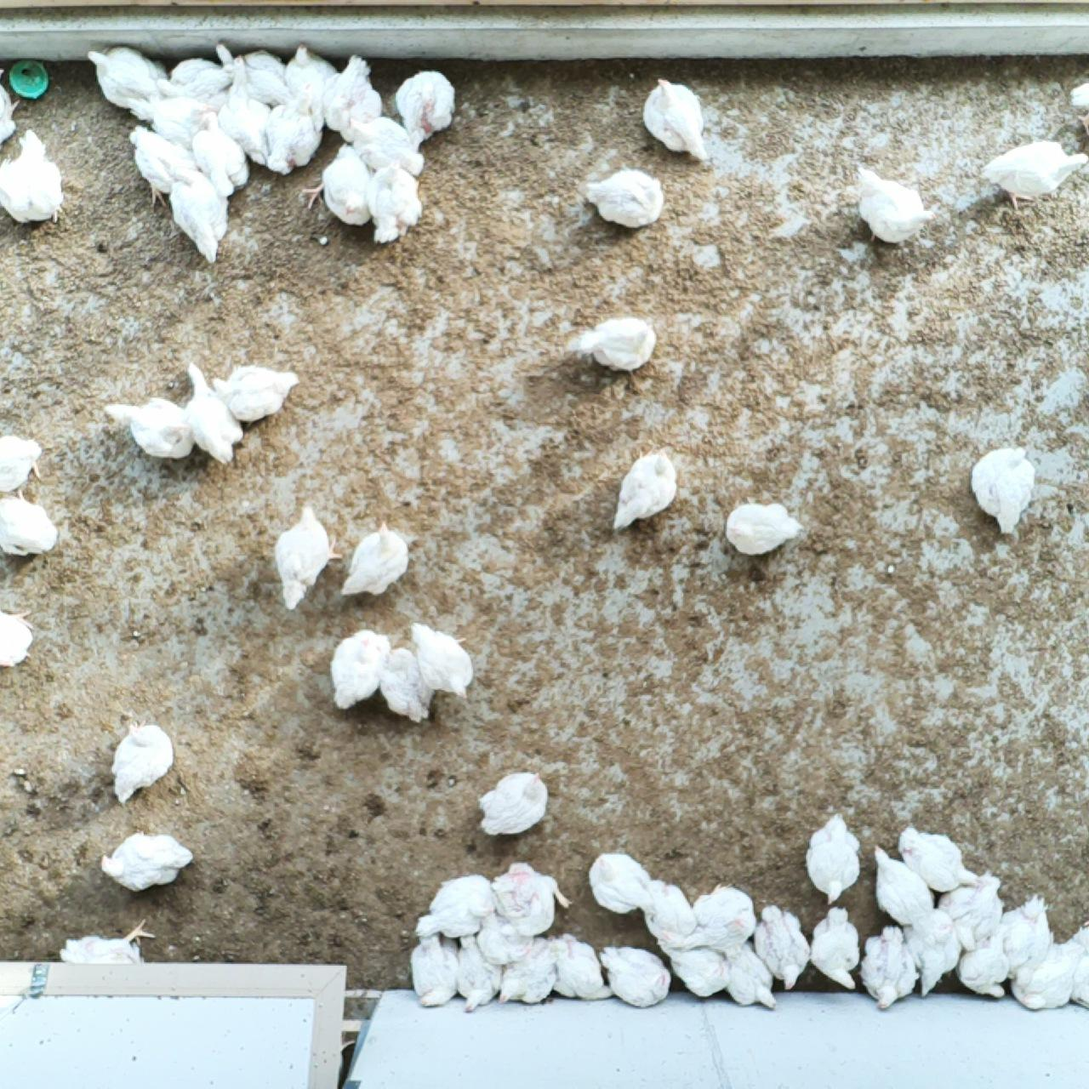chicken: (978, 137, 1089, 213), (850, 162, 944, 249), (275, 500, 342, 615), (639, 71, 717, 169), (577, 155, 674, 233), (82, 40, 173, 122), (299, 139, 381, 227), (181, 358, 245, 469), (0, 127, 69, 229), (488, 858, 572, 938), (894, 822, 985, 895), (99, 828, 198, 895), (936, 865, 1011, 952), (799, 810, 865, 908), (104, 394, 198, 462), (108, 717, 177, 809), (969, 444, 1038, 536), (126, 122, 198, 208), (610, 447, 677, 539), (900, 906, 966, 999), (342, 519, 412, 605), (680, 880, 757, 957), (189, 107, 254, 198), (209, 361, 301, 425), (1009, 937, 1086, 1013), (871, 841, 935, 932), (169, 177, 232, 269), (414, 868, 497, 937), (408, 619, 476, 703), (574, 310, 660, 376), (393, 64, 460, 148), (858, 924, 919, 1012), (476, 765, 549, 838), (327, 626, 391, 709), (367, 155, 426, 245), (346, 115, 430, 178), (55, 916, 158, 967), (316, 63, 385, 137), (548, 929, 616, 1003), (597, 943, 673, 1009), (724, 498, 806, 558), (757, 905, 814, 990), (587, 848, 656, 918), (216, 90, 276, 168), (811, 904, 863, 994), (379, 646, 438, 725), (123, 93, 209, 147), (265, 101, 322, 181), (657, 939, 732, 999), (497, 939, 562, 1006), (637, 873, 697, 945), (0, 487, 61, 557), (408, 932, 461, 1011), (1004, 894, 1058, 971), (724, 941, 779, 1014), (161, 45, 236, 96), (457, 934, 504, 1015), (281, 43, 336, 110), (476, 911, 534, 965), (956, 942, 1008, 999), (0, 430, 45, 495), (242, 56, 297, 106), (0, 608, 40, 672), (0, 61, 24, 151), (220, 51, 262, 98)
